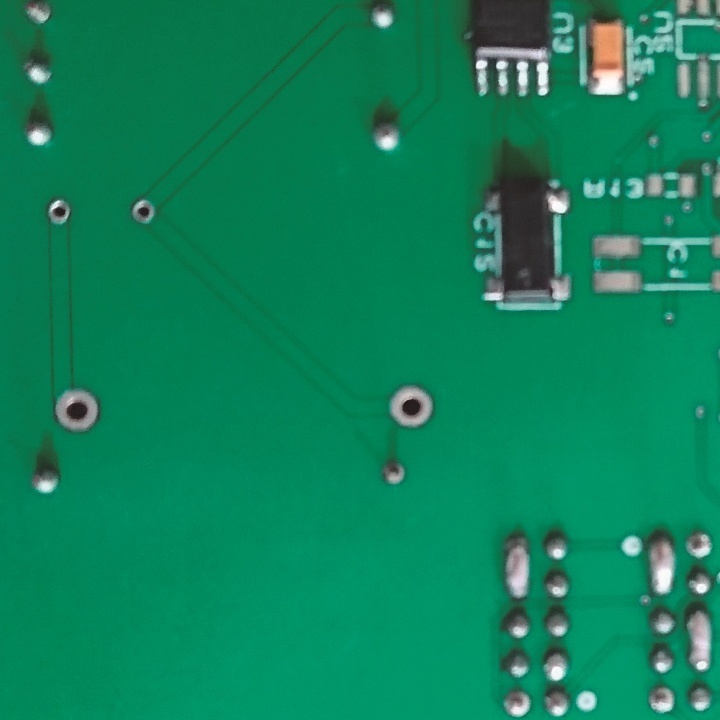F: (384, 383, 436, 432), (51, 386, 101, 430), (502, 689, 533, 720), (24, 1, 55, 32), (646, 684, 678, 714), (684, 528, 713, 560), (127, 197, 155, 226), (381, 458, 408, 488), (46, 195, 72, 226)
P: (646, 529, 675, 600), (684, 603, 713, 672), (503, 535, 531, 600)
